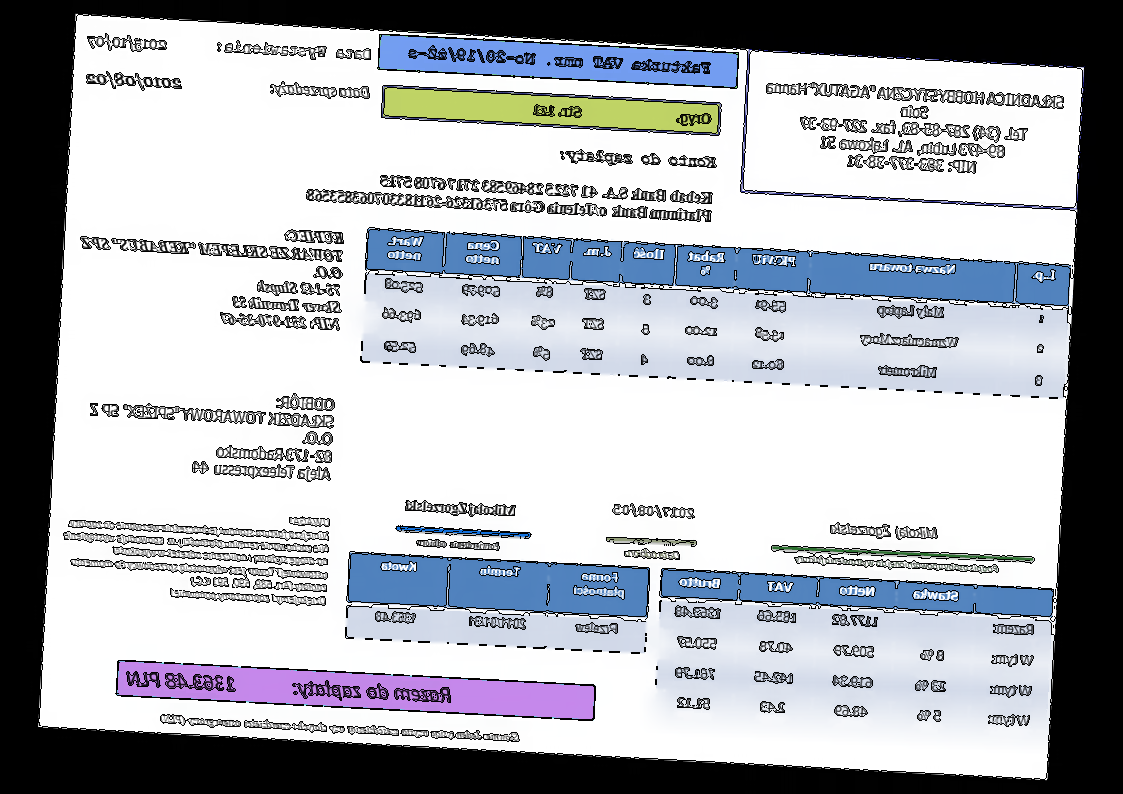Table: (359, 227, 1073, 401), (651, 567, 1057, 740), (344, 550, 652, 657)
TextBox: (69, 214, 348, 335), (760, 77, 1067, 184), (59, 503, 333, 609), (83, 379, 338, 487), (304, 167, 716, 225), (124, 666, 455, 709), (157, 710, 522, 745), (405, 42, 714, 78), (530, 100, 714, 130), (791, 551, 1001, 575), (556, 144, 720, 173), (215, 37, 374, 65), (403, 496, 520, 521), (825, 519, 940, 543), (84, 68, 185, 95), (269, 79, 373, 103), (611, 499, 699, 524), (85, 31, 170, 56), (415, 535, 504, 553), (621, 545, 683, 563)
